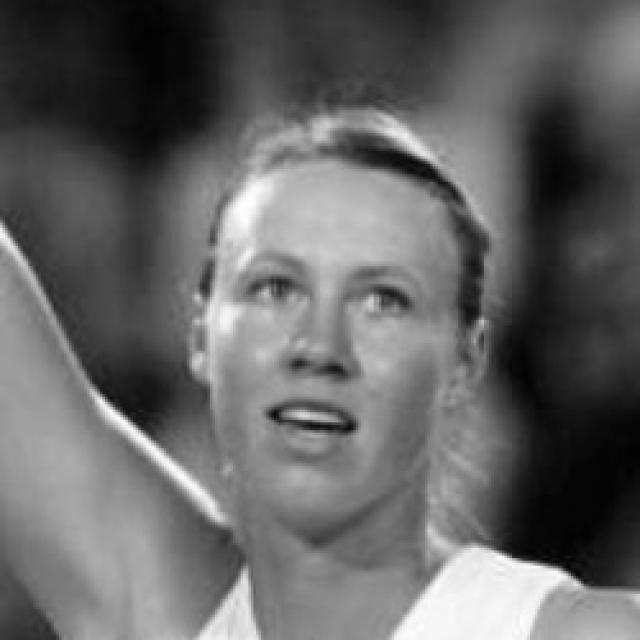real: (196, 158, 472, 518), (225, 255, 415, 325)
